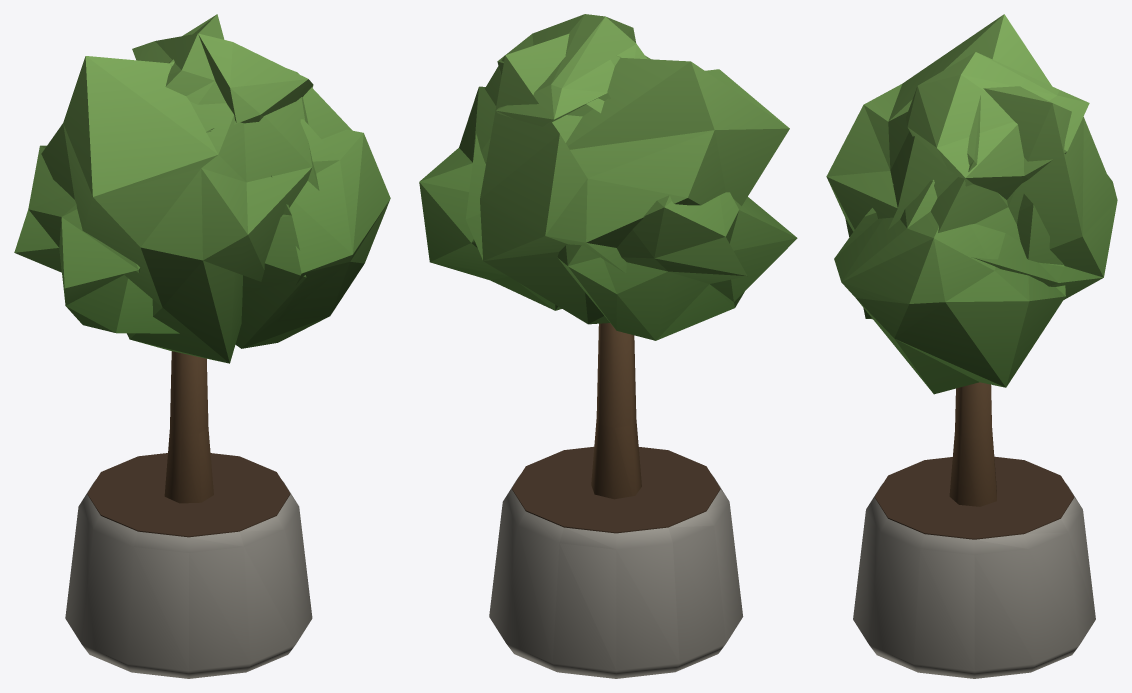
The model's file is plaza_ficus_01.glb.
The picture shows the model from 3 angles, left to right: view 1: azimuth 30°, elevation 25°; view 2: azimuth 150°, elevation 25°; view 3: azimuth 270°, elevation 25°; orthographic projection. The views are drawn at different scales.
Visible parts, largest first — view 1: plaza_ficus_01; view 2: plaza_ficus_01; view 3: plaza_ficus_01.
Part boxes in pixels (box(x1,y1,x2,y2)): plaza_ficus_01: box(14, 14, 390, 678); plaza_ficus_01: box(419, 14, 797, 678); plaza_ficus_01: box(826, 14, 1117, 678).
Bounding box in the file's own units: 1.67 × 2.97 × 1.34.
